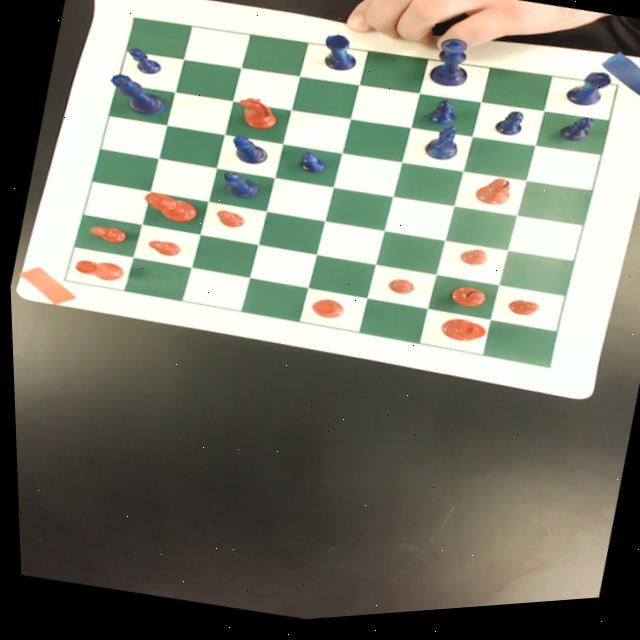B: (225, 134, 271, 172), (216, 171, 262, 206)
K: (424, 39, 476, 98)
N: (420, 126, 462, 171)
P: (554, 119, 596, 154), (122, 45, 165, 79), (491, 114, 525, 146), (425, 100, 456, 133), (294, 152, 327, 180)
Q: (102, 70, 171, 123)
R: (562, 73, 612, 120), (317, 34, 361, 79)
b: (470, 178, 511, 215), (446, 289, 485, 318)
k: (436, 319, 484, 353)
n: (231, 95, 281, 137)
p: (85, 222, 126, 247), (211, 209, 247, 234), (143, 237, 180, 261), (503, 302, 538, 327), (455, 251, 488, 276), (381, 279, 414, 303)
q: (138, 188, 199, 230)
r: (69, 254, 122, 286), (306, 299, 343, 326)
